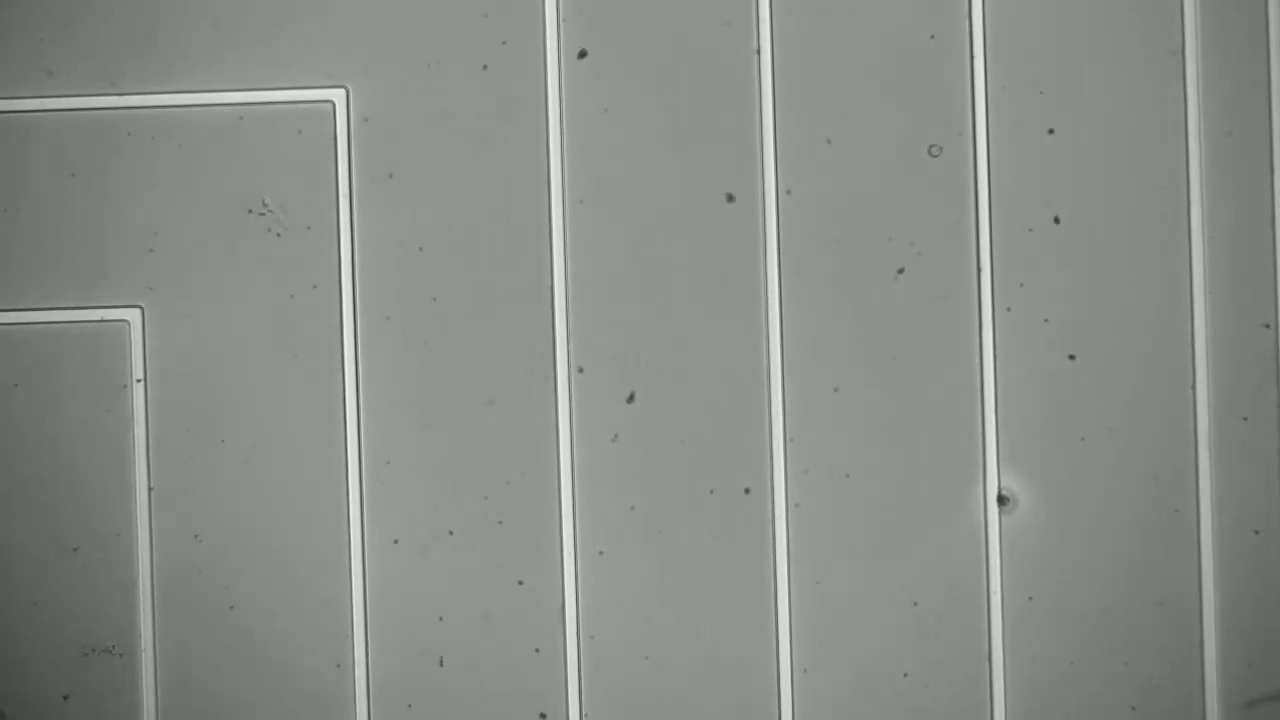stains_enbedded: (972, 475, 1022, 521)
